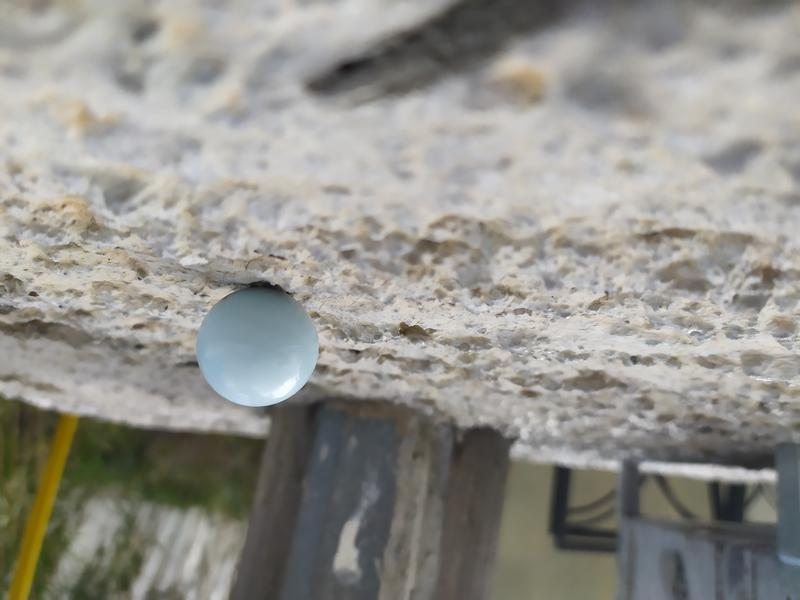Warning: (193, 281, 323, 409)
